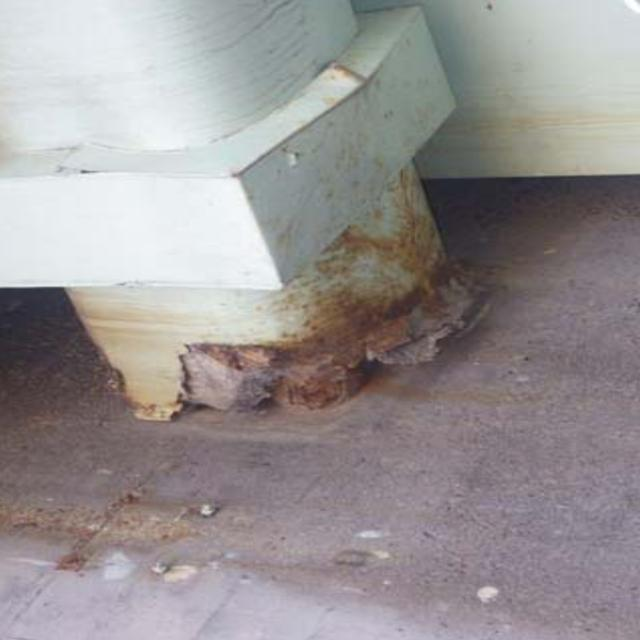corrosion: (69, 249, 532, 404)
